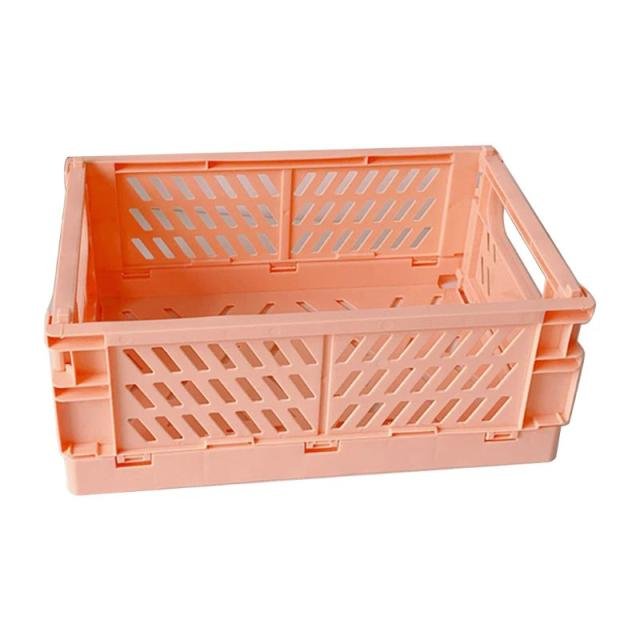basket: (32, 120, 607, 497)
